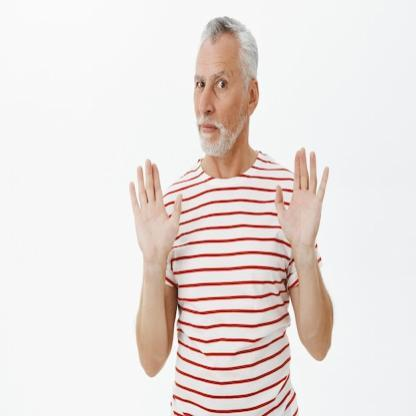stop: (272, 143, 332, 256), (127, 155, 184, 265)
